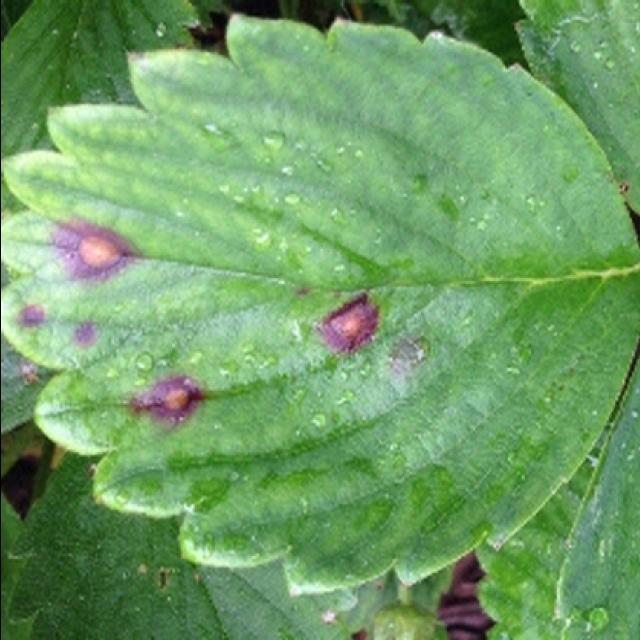Leaf Spot: (2, 10, 640, 596)
